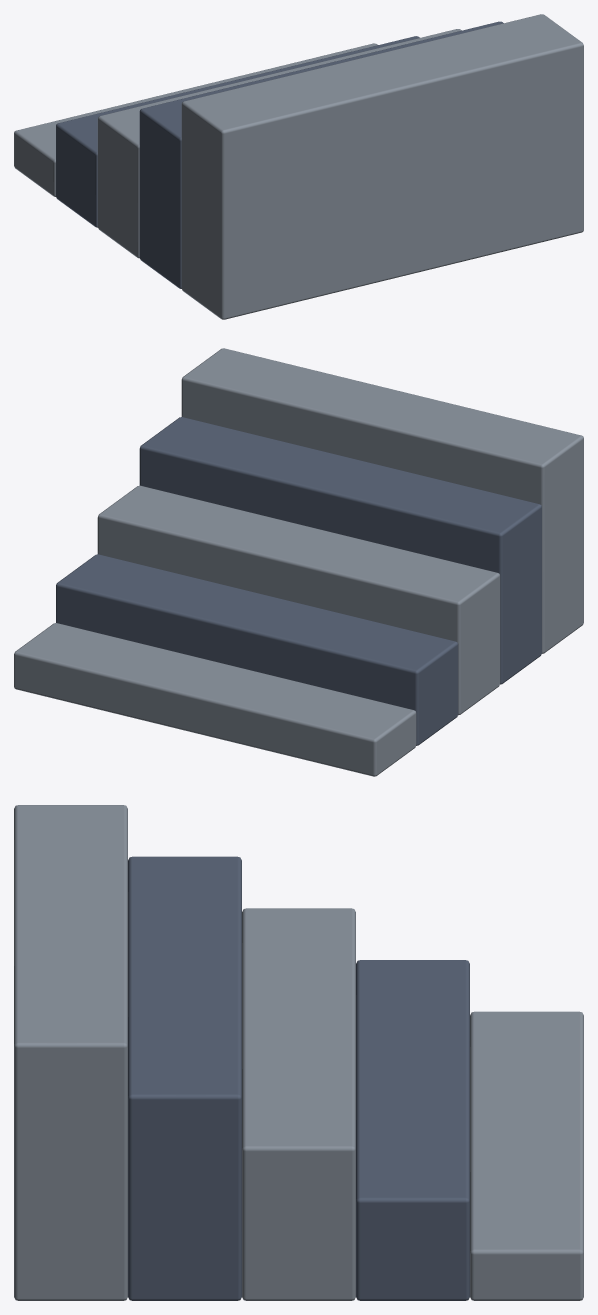
The model's file is stone-stairs.glb.
3 views of the same model, one above another, from view 1: azimuth 30°, elevation 25°; view 2: azimuth 150°, elevation 25°; view 3: azimuth 270°, elevation 25° (orthographic). The views are drawn at different scales.
Parts seen in each view (by area): view 1: step-4, step-3, step-2, step-1, step-0; view 2: step-4, step-3, step-2, step-1, step-0; view 3: step-4, step-3, step-2, step-1, step-0.
Part boxes in pixels (x1,y1,x2,y2): step-4: (181, 14, 583, 319); step-3: (139, 21, 503, 288); step-2: (97, 29, 461, 258); step-1: (56, 36, 419, 227); step-0: (14, 43, 377, 196); step-4: (181, 348, 583, 653); step-3: (139, 417, 541, 684); step-2: (97, 485, 500, 715); step-1: (56, 554, 458, 745); step-0: (14, 623, 416, 776); step-4: (14, 805, 127, 1300); step-3: (128, 856, 241, 1300); step-2: (242, 908, 355, 1300); step-1: (356, 960, 469, 1300); step-0: (470, 1011, 583, 1300).
Size of the model in its own units: 2 by 1 by 2.
